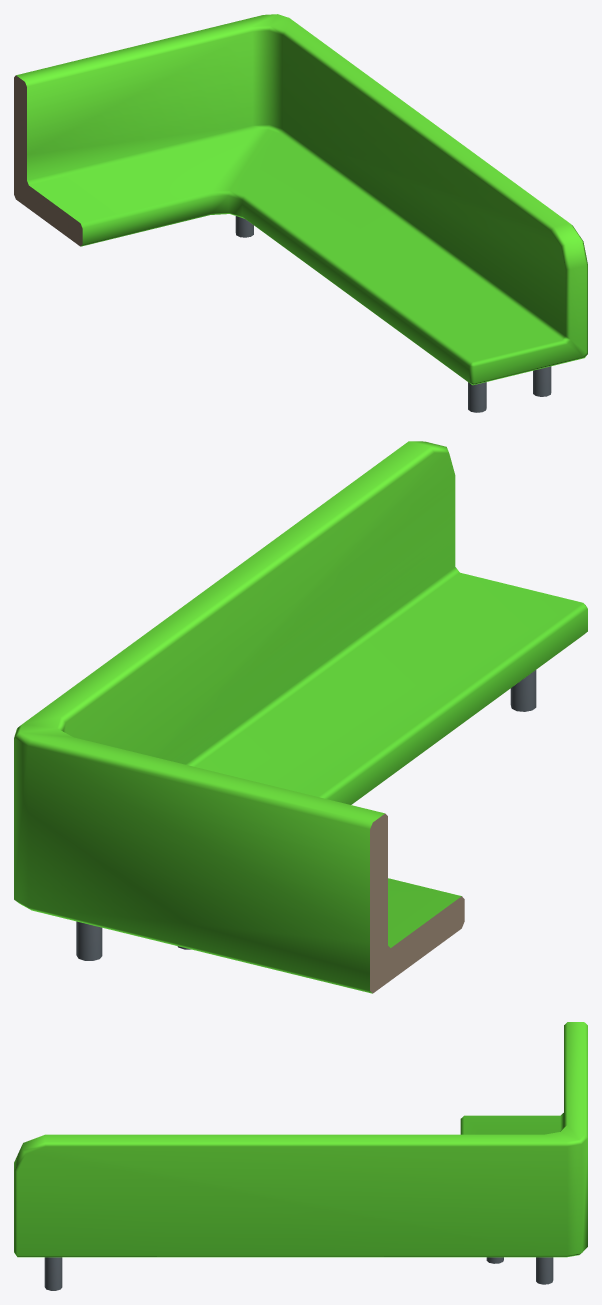
Rendered from Bench_Corner2.fbx.
3 views of the same model, one above another, from view 1: azimuth 30°, elevation 25°; view 2: azimuth 150°, elevation 25°; view 3: azimuth 270°, elevation 25° (orthographic). The views are drawn at different scales.
Parts seen in each view (by area): view 1: Bench_Corner.002; view 2: Bench_Corner.002; view 3: Bench_Corner.002.
Boxes of the visible parts, bbox=[...] form: Bench_Corner.002: bbox=[14, 14, 587, 412]; Bench_Corner.002: bbox=[14, 441, 587, 993]; Bench_Corner.002: bbox=[14, 1022, 587, 1290].
Bounding box in the file's own units: 200 × 120 × 400.
Materials: 1 (1 with a texture image).
